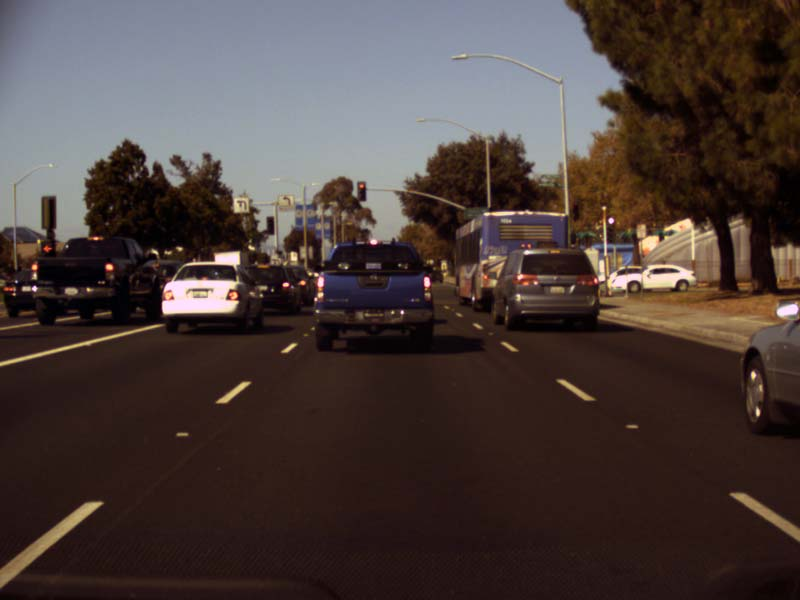Red: (40, 241, 55, 274), (357, 181, 365, 200), (572, 201, 578, 219)
